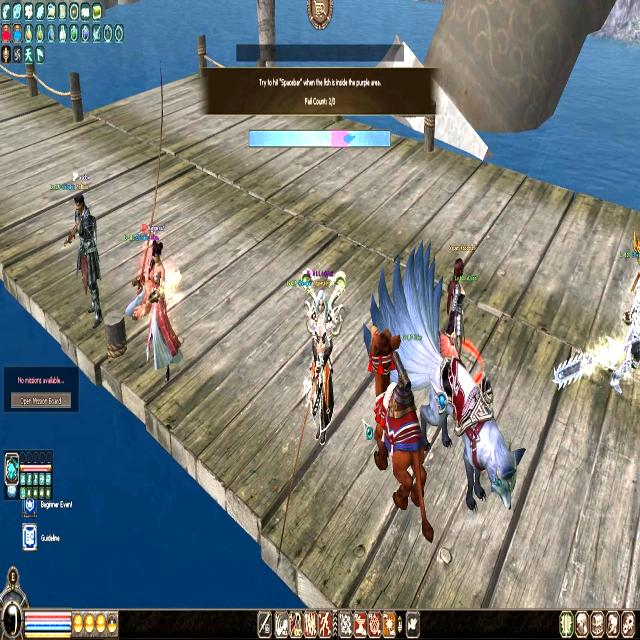fishes: (344, 131, 354, 144)
